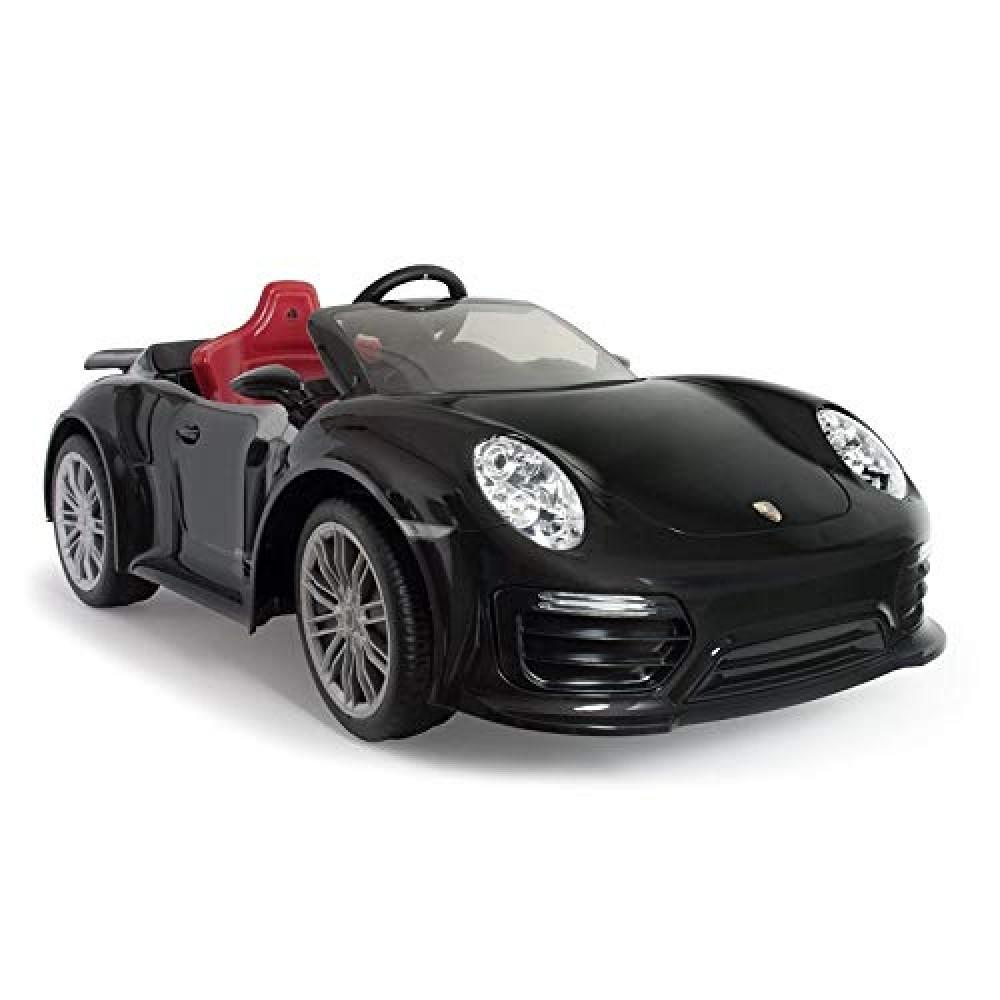porsche: (738, 490, 791, 534)
